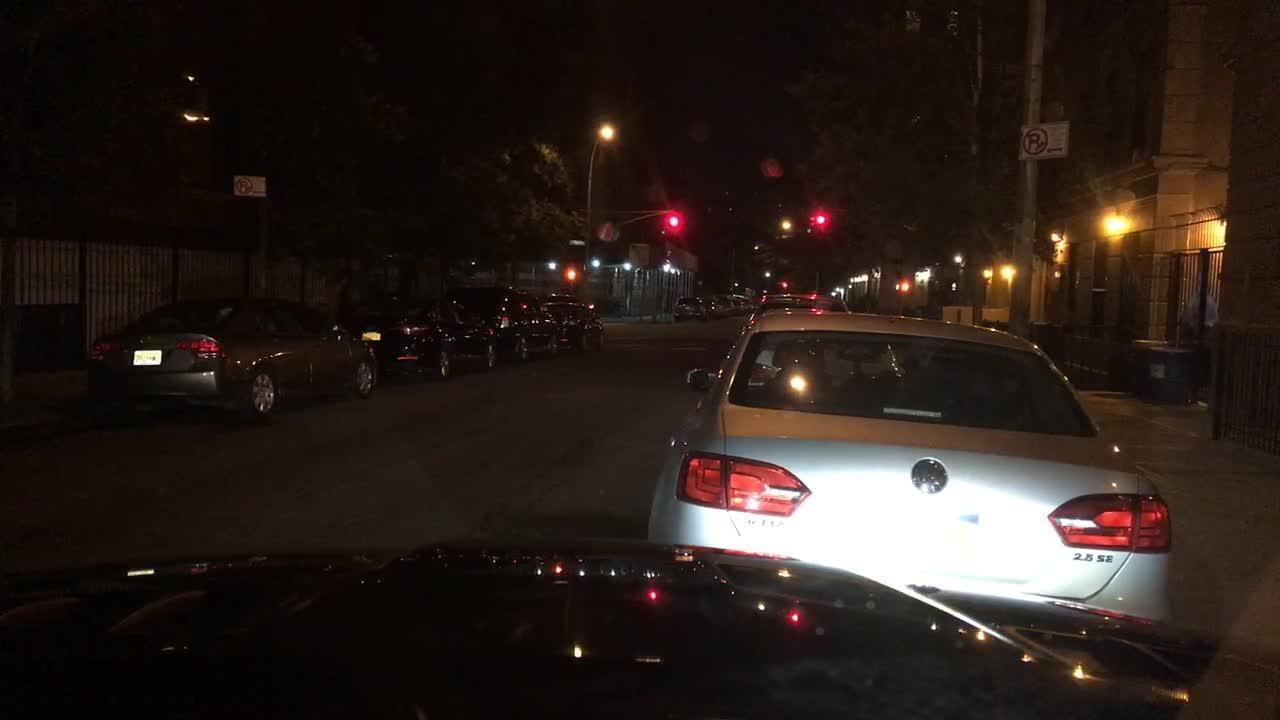Volkswagen: (909, 460, 958, 499)
